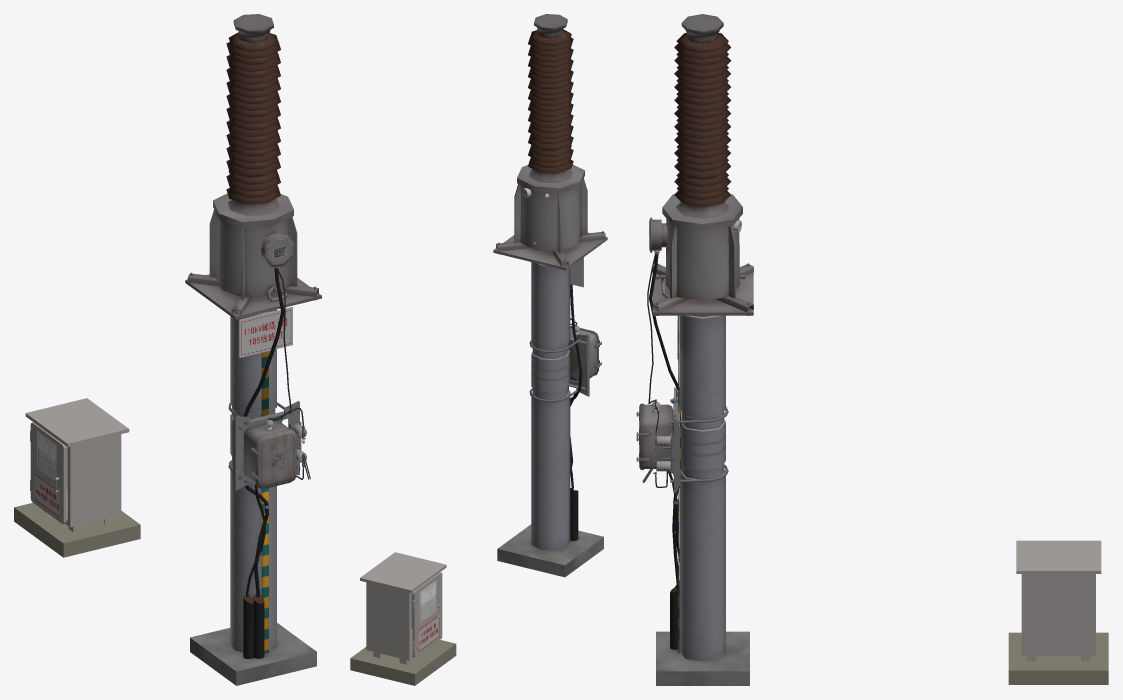
3 renders of one model, left to right at view 1: azimuth 30°, elevation 25°; view 2: azimuth 150°, elevation 25°; view 3: azimuth 270°, elevation 25°, orthographic. The views are drawn at different scales.
Visible parts, largest first — view 1: xd-105xl-pt, xd-105xl-105pt-jgx_Duanzixiang, xd_105xl_pt_waicitao, xd_105xl_pt_jinshugan, xd_105xl_pt_jiexanhe, xd-105xl-105pt-jgx_Duanzixiangmen; view 2: xd_105xl_pt_jinshugan, xd-105xl-pt, xd-105xl-105pt-jgx_Duanzixiang, xd_105xl_pt_waicitao, xd_105xl_pt_jiexanhe, xd-105xl-105pt-jgx_Duanzixiangmen; view 3: xd_105xl_pt_jinshugan, xd-105xl-pt, xd-105xl-105pt-jgx_Duanzixiang, xd_105xl_pt_waicitao, xd_105xl_pt_jiexanhe.
Boxes of the visible parts, x1=… form: xd-105xl-pt: x1=185, y1=14, x2=321, y2=685; xd-105xl-105pt-jgx_Duanzixiang: x1=14, y1=398, x2=140, y2=557; xd_105xl_pt_waicitao: x1=226, y1=32, x2=280, y2=215; xd_105xl_pt_jinshugan: x1=230, y1=309, x2=276, y2=652; xd_105xl_pt_jiexanhe: x1=213, y1=193, x2=294, y2=297; xd-105xl-105pt-jgx_Duanzixiangmen: x1=30, y1=422, x2=66, y2=523; xd_105xl_pt_jinshugan: x1=531, y1=262, x2=570, y2=550; xd-105xl-pt: x1=493, y1=14, x2=607, y2=577; xd-105xl-105pt-jgx_Duanzixiang: x1=350, y1=552, x2=456, y2=685; xd_105xl_pt_waicitao: x1=528, y1=29, x2=573, y2=183; xd_105xl_pt_jiexanhe: x1=517, y1=164, x2=584, y2=251; xd-105xl-105pt-jgx_Duanzixiangmen: x1=412, y1=572, x2=442, y2=657; xd_105xl_pt_jinshugan: x1=679, y1=315, x2=725, y2=661; xd-105xl-pt: x1=636, y1=14, x2=753, y2=685; xd-105xl-105pt-jgx_Duanzixiang: x1=1008, y1=540, x2=1108, y2=684; xd_105xl_pt_waicitao: x1=674, y1=33, x2=731, y2=218; xd_105xl_pt_jiexanhe: x1=649, y1=194, x2=742, y2=300.
Size of the model in its own units: 60.24 by 419 by 279.
Materials: 5 (5 with a texture image).
